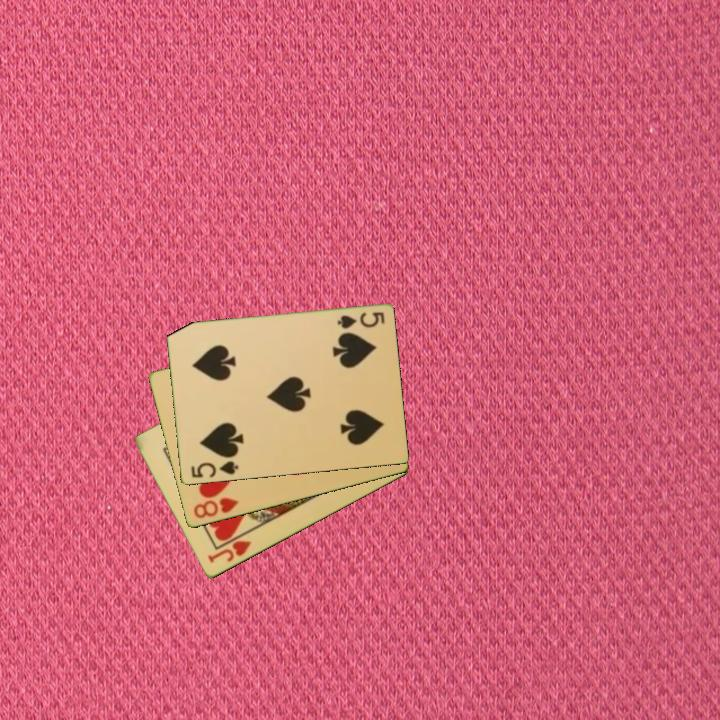5s: (187, 458, 241, 481), (333, 309, 387, 332)
8h: (190, 494, 241, 522)
Jh: (204, 529, 255, 567)
